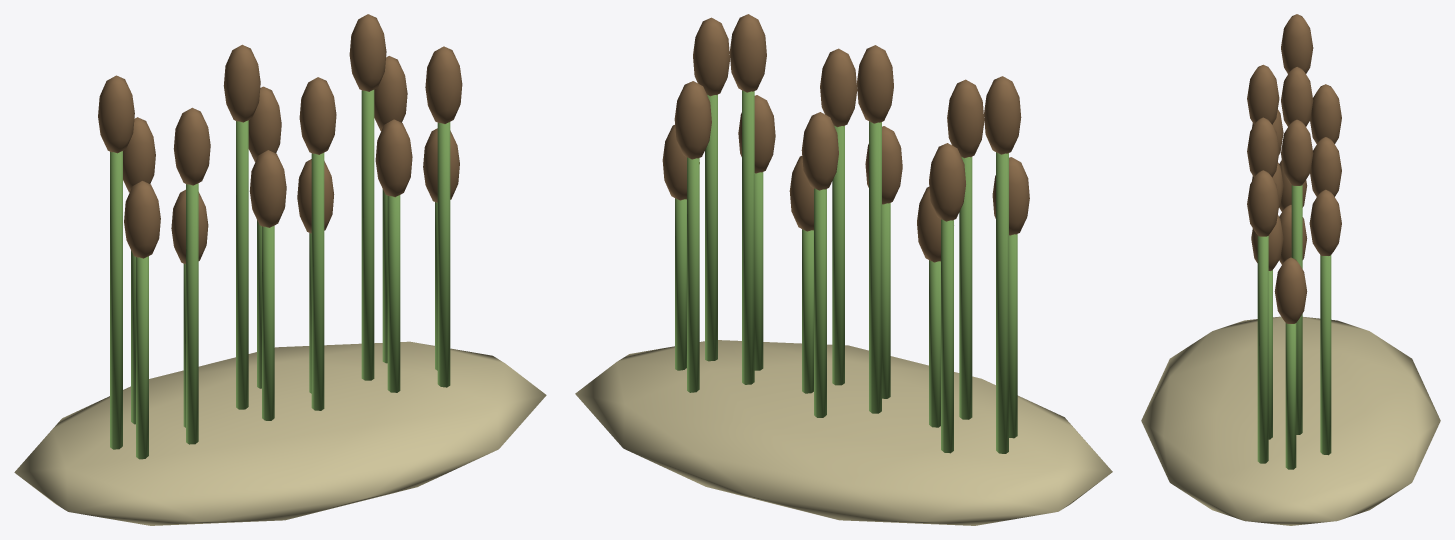
File: prop-pond-cleanup.glb
3 renders of one model, left to right at view 1: azimuth 30°, elevation 25°; view 2: azimuth 150°, elevation 25°; view 3: azimuth 270°, elevation 25°, orthographic. The views are drawn at different scales.
Parts seen in each view (by area): view 1: Restored bank, prop-pond-cleanup_leaf, prop-pond-cleanup_bark; view 2: Restored bank, prop-pond-cleanup_leaf, prop-pond-cleanup_bark; view 3: Restored bank, prop-pond-cleanup_bark, prop-pond-cleanup_leaf.
Boxes of the visible parts, x1,y1,x2,y2 form: Restored bank: (14, 341, 546, 525); prop-pond-cleanup_leaf: (110, 90, 450, 459); prop-pond-cleanup_bark: (98, 14, 462, 264); Restored bank: (575, 340, 1112, 525); prop-pond-cleanup_leaf: (675, 90, 1017, 453); prop-pond-cleanup_bark: (662, 14, 1029, 262); Restored bank: (1141, 316, 1440, 525); prop-pond-cleanup_bark: (1247, 14, 1341, 323); prop-pond-cleanup_leaf: (1257, 185, 1331, 469).
Size of the model in its own units: 1.9 by 1.63 by 1.2.
